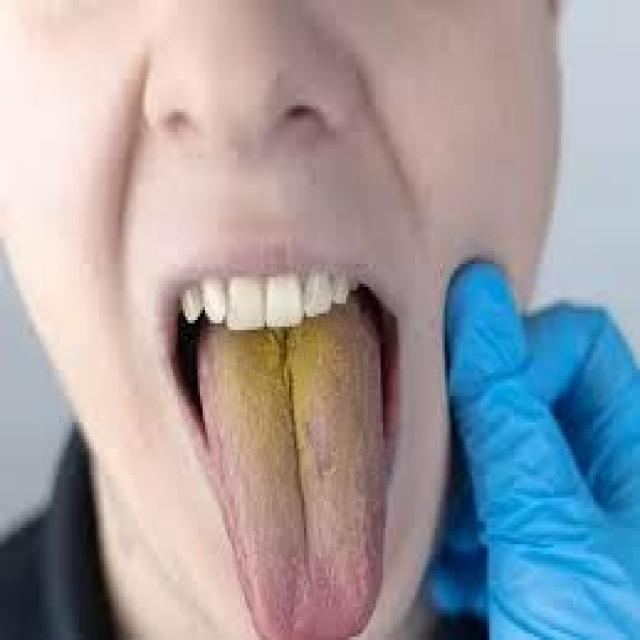discolored_patch: (193, 300, 388, 637)
